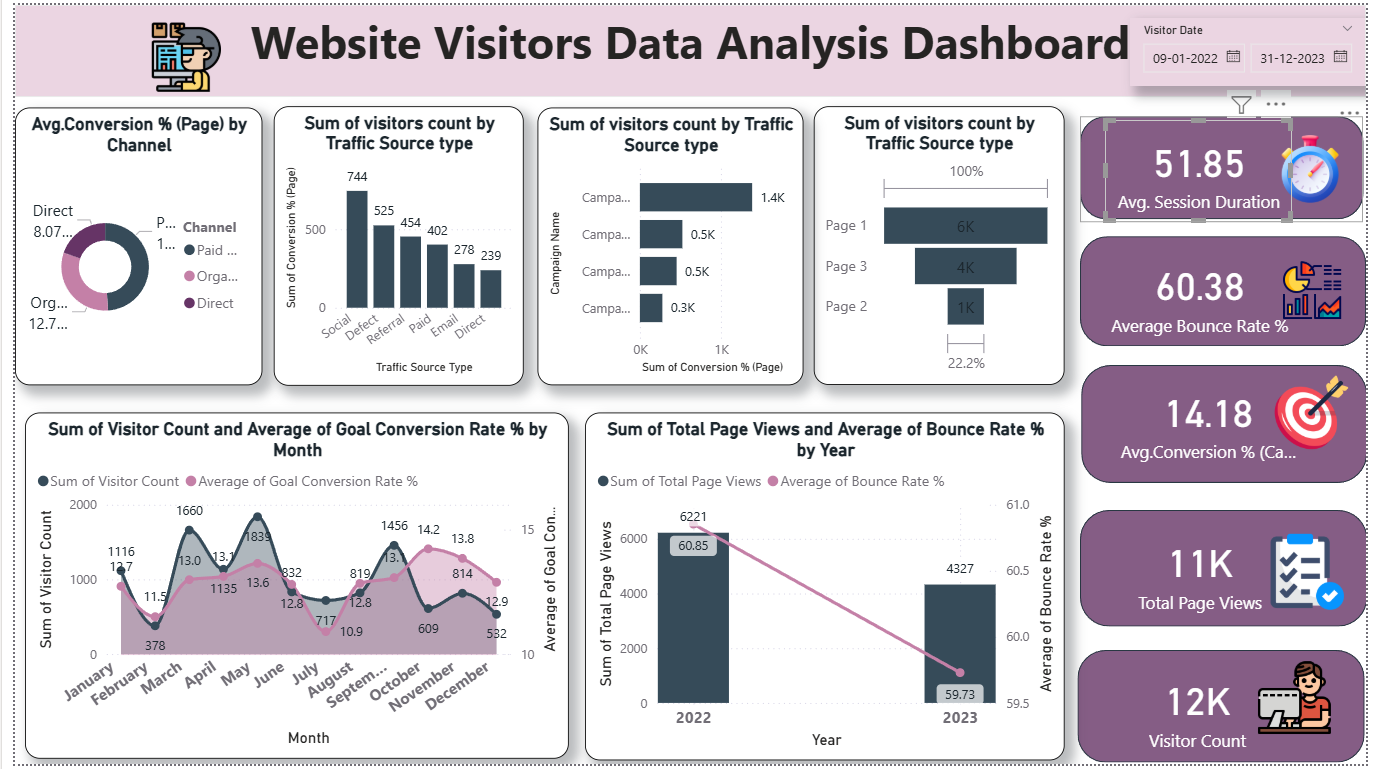

The dashboard page shown, as its layout file describes it:
{"tool":"powerbi","page":{"name":"Page 1","canvas":[1280,720],"ordinal":0},"visuals":[{"type":"textbox","box":[0,0,1280.2,87.2],"z":0},{"type":"shape","box":[1008.5,105.2,268.6,97.5],"z":0,"group":"g4"},{"type":"shape","box":[1008.5,219.3,271.1,104.3],"z":0,"group":"g5"},{"type":"shape","box":[1010.2,341.3,270.9,111.8],"z":0,"group":"g3"},{"type":"group","id":"g1","title":"Group 1","box":[1008.5,478.3,269.1,114.2],"z":0,"group":"g8"},{"type":"shape","box":[1008.5,478.3,272.3,110.4],"z":0,"group":"g1"},{"type":"group","id":"g2","title":"Group 1","box":[1006.3,610.6,272.5,109.7],"z":0,"group":"g10"},{"type":"shape","box":[1006.3,610.6,272,106.7],"z":0,"group":"g2"},{"type":"card","fields":{"Values":["Avg(Data.Avg. Session Duration (sec))"]},"box":[1031.9,108.6,178.3,97.6],"z":1000,"group":"g4"},{"type":"card","fields":{"Values":["Avg(Data.Bounce Rate %)"]},"box":[1032.1,222.9,179.9,104.3],"z":1000,"group":"g5"},{"type":"group","id":"g3","title":"Group 1","box":[1010.2,338.9,270.9,114.2],"z":1000},{"type":"card","fields":{"Values":["Avg(Data.Conversion % (Campaign))"]},"box":[1040.5,338.9,179.8,111.9],"z":1000,"group":"g3"},{"type":"card","fields":{"Values":["Sum(Data.Total Page Views)"]},"box":[1032.2,482.1,180.7,110.4],"z":1000,"group":"g1"},{"type":"card","fields":{"Values":["Sum(Data.Visitor Count)"]},"box":[1030,614.3,180.5,106.7],"z":1000,"group":"g2"},{"type":"group","id":"g4","title":"Group 1","box":[1008.5,105.2,269.1,100.6],"z":2000},{"type":"image","box":[1189.6,113,74,82.6],"z":2000,"group":"g4"},{"type":"group","id":"g5","title":"Group 1","box":[1008.5,219.3,271.6,107.2],"z":3000,"group":"g6"},{"type":"image","box":[1186,332.4,85.9,107.1],"z":3000},{"type":"group","id":"g6","title":"Group 3","box":[1008.5,219.3,271.4,107.4],"z":4000},{"type":"image","box":[1194.1,228,67.9,85.5],"z":4000,"group":"g6"},{"type":"group","id":"g7","title":"Group 4","box":[123.6,11.7,79.1,75.6],"z":5000},{"type":"group","id":"g8","title":"Group 2","box":[1008.5,478.3,269.1,114.2],"z":5000,"group":"g9"},{"type":"group","id":"g9","title":"Group 5","box":[1008.5,478.3,269.1,114.2],"z":6000},{"type":"group","id":"g10","title":"Group 6","box":[1006.3,610.6,273.6,109.7],"z":7000},{"type":"image","box":[123.6,11.7,79.1,75.6],"z":7002,"group":"g7"},{"type":"image","box":[1166,613.9,90.5,83.6],"z":7004,"group":"g10"},{"type":"image","box":[1179.3,496.3,90,81.9],"z":7005,"group":"g9"},{"type":"donutChart","title":"Avg.Conversion % (Page) by Channel","fields":{"Y":["Avg(Data.Conversion % (Page))"],"Category":["Data.Channel"]},"box":[0,97.3,234.3,263.1],"z":8000},{"type":"columnChart","title":"Sum of visitors count by Traffic Source type ","fields":{"Category":["Data.Traffic Source Type"],"Y":["Sum(Data.Conversion % (Page))"]},"box":[245.3,95.9,237.1,264.5],"z":9000},{"type":"funnel","title":"Sum of visitors count by Traffic Source type ","fields":{"Category":["Data.Page Name"],"Y":["Sum(Data.Visitor Count)"]},"box":[757,96.5,237.2,264],"z":10000},{"type":"clusteredBarChart","title":"Sum of visitors count by Traffic Source type ","fields":{"Y":["Sum(Data.Conversion % (Page))"],"Category":["Data.Campaign Name"]},"box":[494.7,97.3,252.2,263.1],"z":11000},{"type":"areaChart","fields":{"Category":["Data.Visitor Date.Variation.Date Hierarchy.Month"],"Y":["Sum(Data.Visitor Count)"],"Y2":["Avg(Data.Goal Conversion Rate %)"]},"box":[9.6,385.8,515.3,327.9],"z":12000},{"type":"slicer","fields":{"Values":["Data.Visitor Date"]},"box":[1056.6,12.3,223.4,64.4],"z":13000},{"type":"lineStackedColumnComboChart","fields":{"Y":["Sum(Data.Total Page Views)","select"],"Category":["Data.Visitor Date.Variation.Date Hierarchy.Year"],"Y2":["Avg(Data.Bounce Rate %)"]},"box":[540.1,385.8,454.7,329.3],"z":14000}]}

Visuals, with their boxes in screenshot pixels (x1, y1, x2, y2), scaled from the page's 1280x720 canvas onto the 1373x769 screenshot:
textbox: left=0, top=0, right=1372, bottom=93
shape: left=1082, top=112, right=1370, bottom=216
shape: left=1082, top=234, right=1372, bottom=346
shape: left=1084, top=365, right=1372, bottom=484
"Group 1" group: left=1082, top=511, right=1370, bottom=633
shape: left=1082, top=511, right=1372, bottom=629
"Group 1" group: left=1079, top=652, right=1372, bottom=768
shape: left=1079, top=652, right=1371, bottom=766
card - Avg(Data.Avg. Session Duration (sec)): left=1107, top=116, right=1298, bottom=220
card - Avg(Data.Bounce Rate %): left=1107, top=238, right=1300, bottom=349
"Group 1" group: left=1084, top=362, right=1372, bottom=484
card - Avg(Data.Conversion % (Campaign)): left=1116, top=362, right=1309, bottom=481
card - Sum(Data.Total Page Views): left=1107, top=515, right=1301, bottom=633
card - Sum(Data.Visitor Count): left=1105, top=656, right=1298, bottom=768
"Group 1" group: left=1082, top=112, right=1370, bottom=220
image: left=1276, top=121, right=1355, bottom=209
"Group 1" group: left=1082, top=234, right=1372, bottom=349
image: left=1272, top=355, right=1364, bottom=469
"Group 3" group: left=1082, top=234, right=1372, bottom=349
image: left=1281, top=244, right=1354, bottom=335
"Group 4" group: left=133, top=12, right=217, bottom=93
"Group 2" group: left=1082, top=511, right=1370, bottom=633
"Group 5" group: left=1082, top=511, right=1370, bottom=633
"Group 6" group: left=1079, top=652, right=1372, bottom=768
image: left=133, top=12, right=217, bottom=93
image: left=1251, top=656, right=1348, bottom=745
image: left=1265, top=530, right=1362, bottom=618
"Avg.Conversion % (Page) by Channel" donutChart: left=0, top=104, right=251, bottom=385
"Sum of visitors count by Traffic Source type " columnChart: left=263, top=102, right=517, bottom=385
"Sum of visitors count by Traffic Source type " funnel: left=812, top=103, right=1066, bottom=385
"Sum of visitors count by Traffic Source type " clusteredBarChart: left=531, top=104, right=801, bottom=385
areaChart - Data.Visitor Date.Variation.Date Hierarchy.Month x Sum(Data.Visitor Count): left=10, top=412, right=563, bottom=762
slicer - Data.Visitor Date: left=1133, top=13, right=1372, bottom=82
lineStackedColumnComboChart - Sum(Data.Total Page Views) x select: left=579, top=412, right=1067, bottom=764
